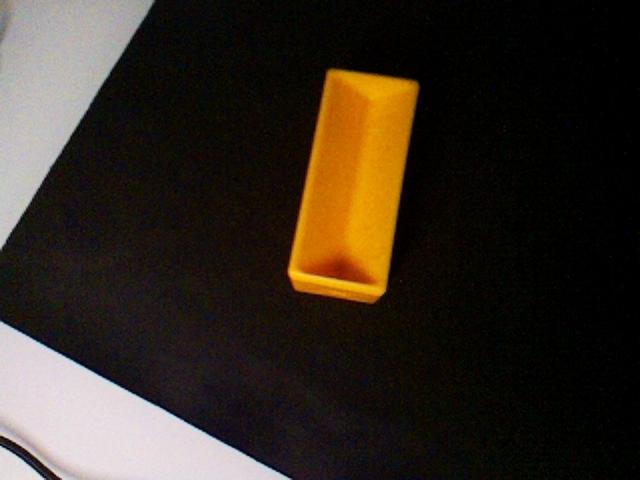yellow: (286, 66, 421, 305)
